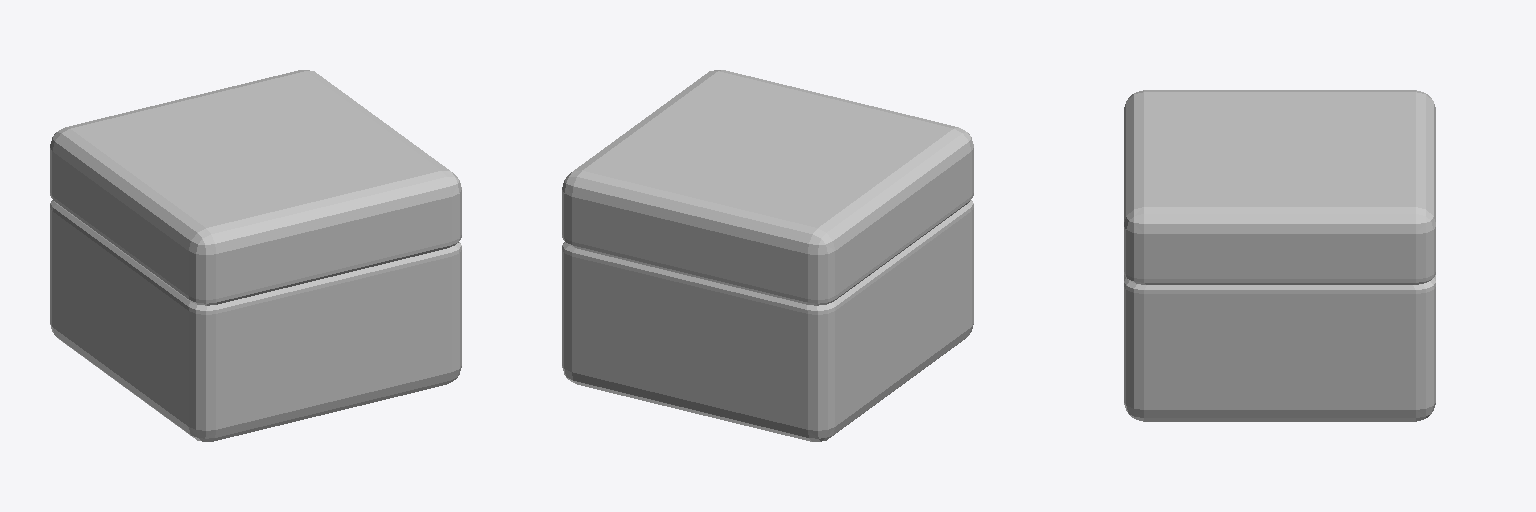
File: tileMedium_desert.obj
3 views of the same model, side by side, from view 1: azimuth 30°, elevation 25°; view 2: azimuth 150°, elevation 25°; view 3: azimuth 270°, elevation 25° (orthographic).
Visible parts, largest first — view 1: tileMedium_desert_Cube.000; view 2: tileMedium_desert_Cube.000; view 3: tileMedium_desert_Cube.000.
Part boxes in pixels (x1,y1,x2,y2): tileMedium_desert_Cube.000: (50, 70, 461, 441); tileMedium_desert_Cube.000: (562, 70, 973, 441); tileMedium_desert_Cube.000: (1124, 90, 1435, 421).
Size of the model in its own units: 2 by 1.5 by 2.